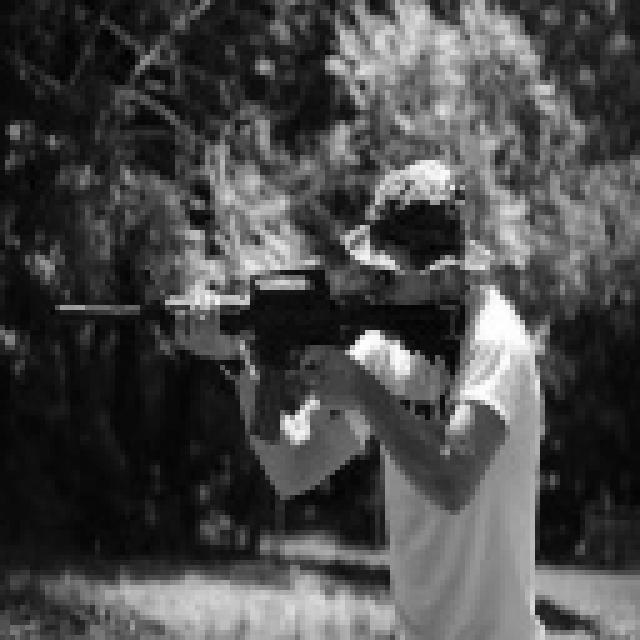Rifle: (56, 232, 492, 478)
